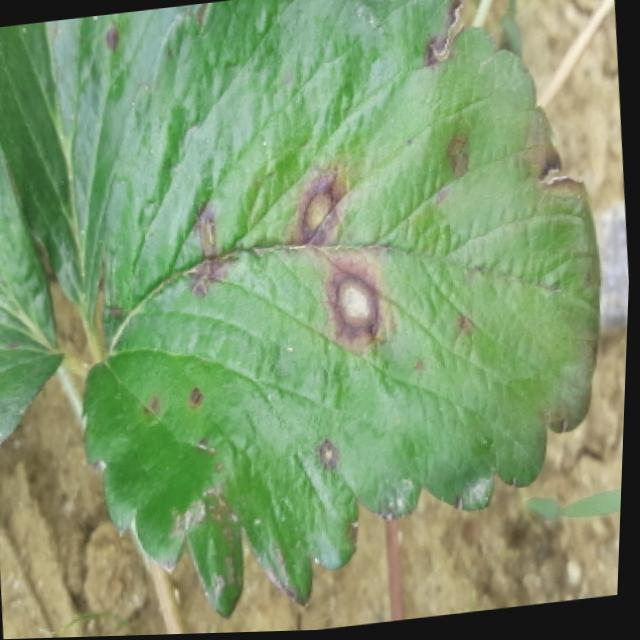Leaf Spot: (84, 0, 604, 624), (0, 4, 209, 337)
